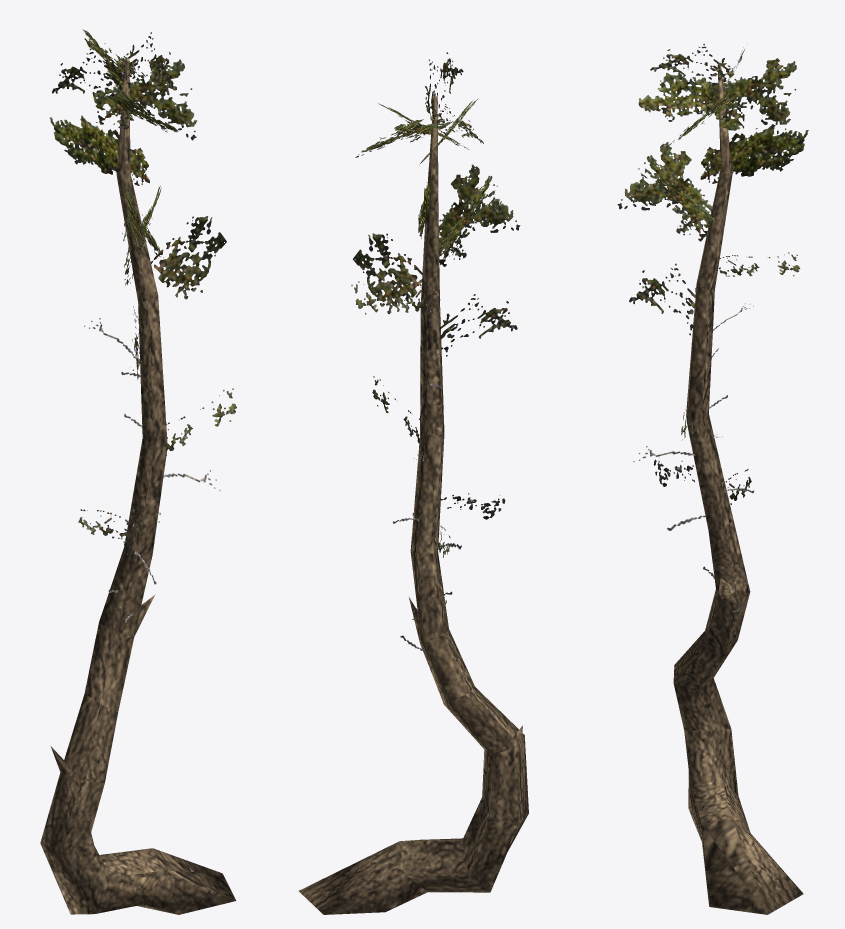
The model's file is SM_Tree_Curve_04.FBX.
3 views of the same model, side by side, from view 1: azimuth 30°, elevation 25°; view 2: azimuth 150°, elevation 25°; view 3: azimuth 270°, elevation 25° (orthographic). The views are drawn at different scales.
Parts seen in each view (by area): view 1: Tree_Curve_04; view 2: Tree_Curve_04; view 3: Tree_Curve_04.
Part boxes in pixels (bbox=[...]): Tree_Curve_04: bbox=[40, 29, 236, 914]; Tree_Curve_04: bbox=[299, 52, 528, 914]; Tree_Curve_04: bbox=[617, 44, 808, 914].
Size of the model in its own units: 176 by 184 by 719.
